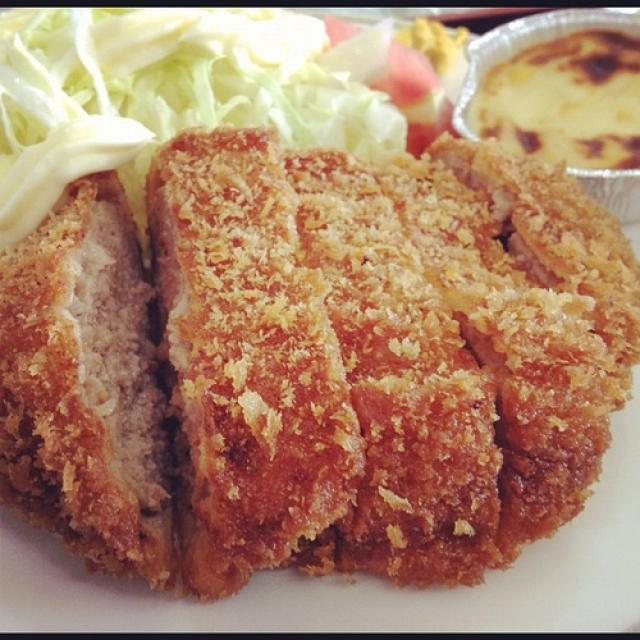炸货点心: (12, 119, 638, 572)
